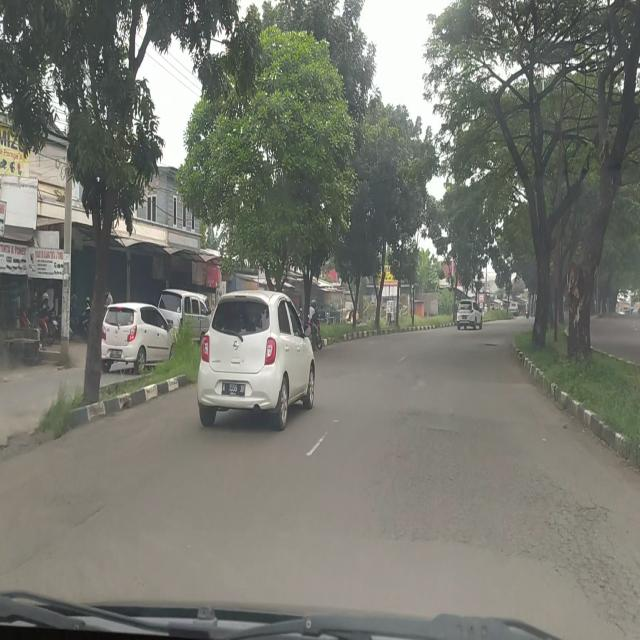Drain Hole: (523, 467, 640, 628)
